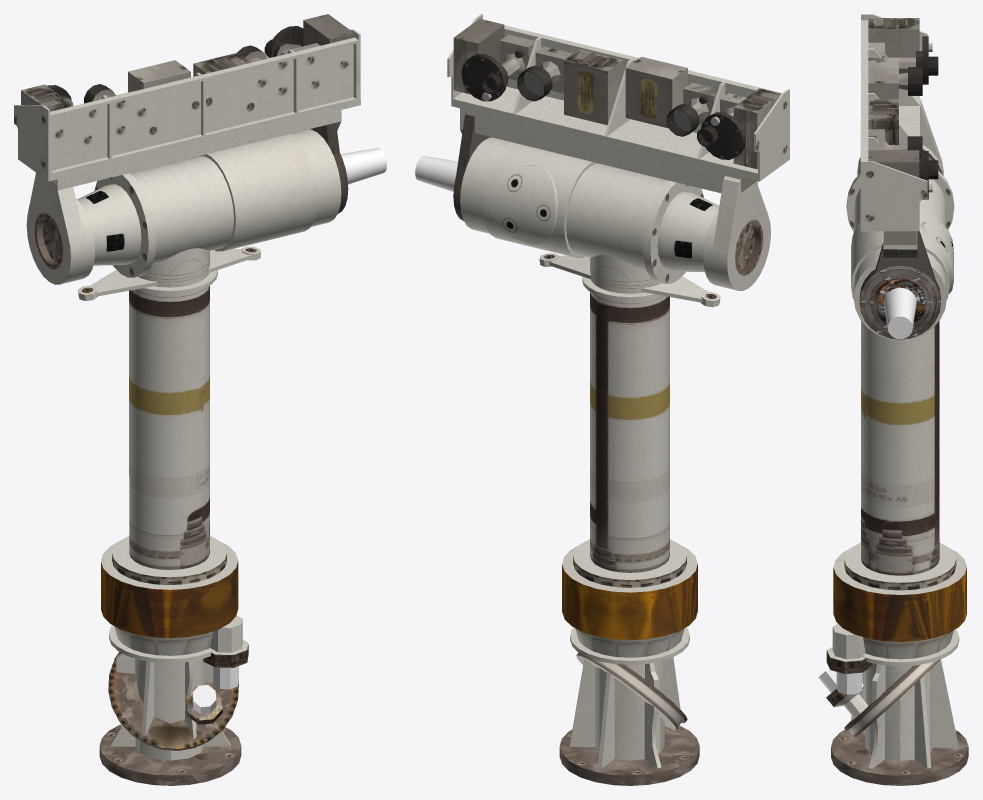
Rendered from mer-camera.glb.
The picture shows the model from 3 angles, left to right: view 1: azimuth 30°, elevation 25°; view 2: azimuth 150°, elevation 25°; view 3: azimuth 270°, elevation 25°; orthographic projection. The views are drawn at different scales.
Parts seen in each view (by area): view 1: Cube000_6, Cube000_7; view 2: Cube000_6, Cube000_7; view 3: Cube000_6, Cube000_7.
Part boxes in pixels (x1,y1,x2,y2): Cube000_6: (14, 14, 360, 785); Cube000_7: (192, 148, 386, 713); Cube000_6: (447, 14, 789, 785); Cube000_7: (415, 156, 457, 191); Cube000_6: (826, 14, 968, 785); Cube000_7: (818, 287, 916, 694).
Size of the model in its own units: 0.7993 by 1.51 by 0.3037.
Materials: 2 (1 with a texture image).
